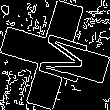M_W: (24, 26, 86, 84)
